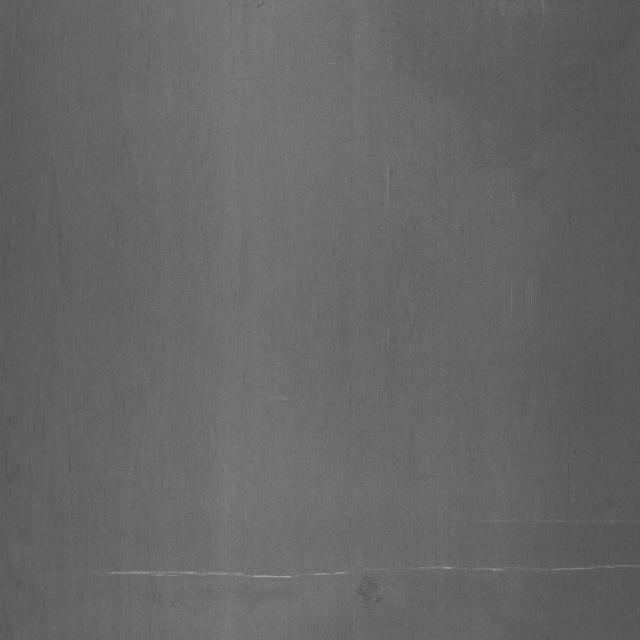rolled_pit: (99, 492, 620, 597)
